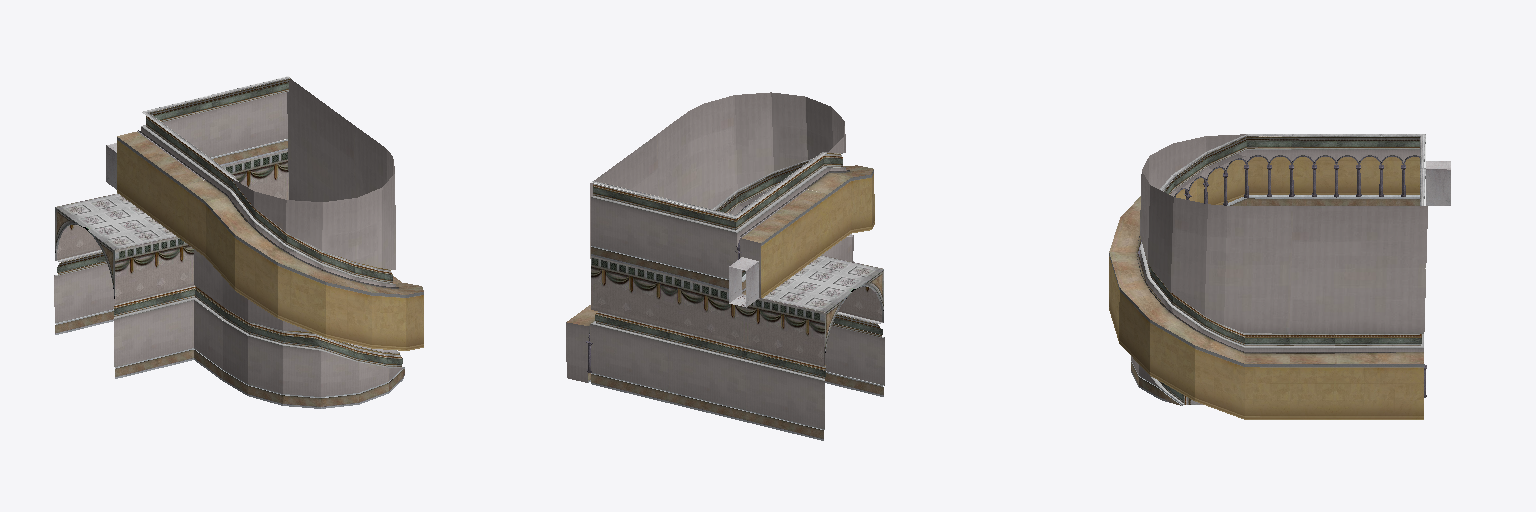
The picture shows the model from 3 angles: view 1: azimuth 30°, elevation 25°; view 2: azimuth 150°, elevation 25°; view 3: azimuth 270°, elevation 25°; orthographic projection.
Visible parts, largest first — view 1: Object058, Object057, Object061, Object056, Object; view 2: Object058, Object061, Object056, Object057, Door021, Object; view 3: Object058, Object057, Object, Door021, Object059.
Part boxes in pixels (x1,y1,x2,y2): Object058: (54, 76, 423, 408); Object057: (117, 137, 423, 350); Object061: (55, 193, 193, 304); Object056: (222, 150, 288, 199); Object: (141, 127, 395, 286); Object058: (566, 92, 884, 440); Object061: (746, 255, 883, 366); Object056: (591, 256, 745, 346); Object057: (761, 170, 874, 297); Door021: (729, 257, 758, 307); Object: (729, 167, 846, 246); Object058: (1109, 134, 1427, 405); Object057: (1109, 157, 1424, 419); Object: (1140, 150, 1423, 351); Door021: (1426, 161, 1450, 205); Object059: (1138, 155, 1419, 256).
Size of the model in its own units: 20.5 by 15.28 by 23.48.
Materials: 5 (5 with a texture image).